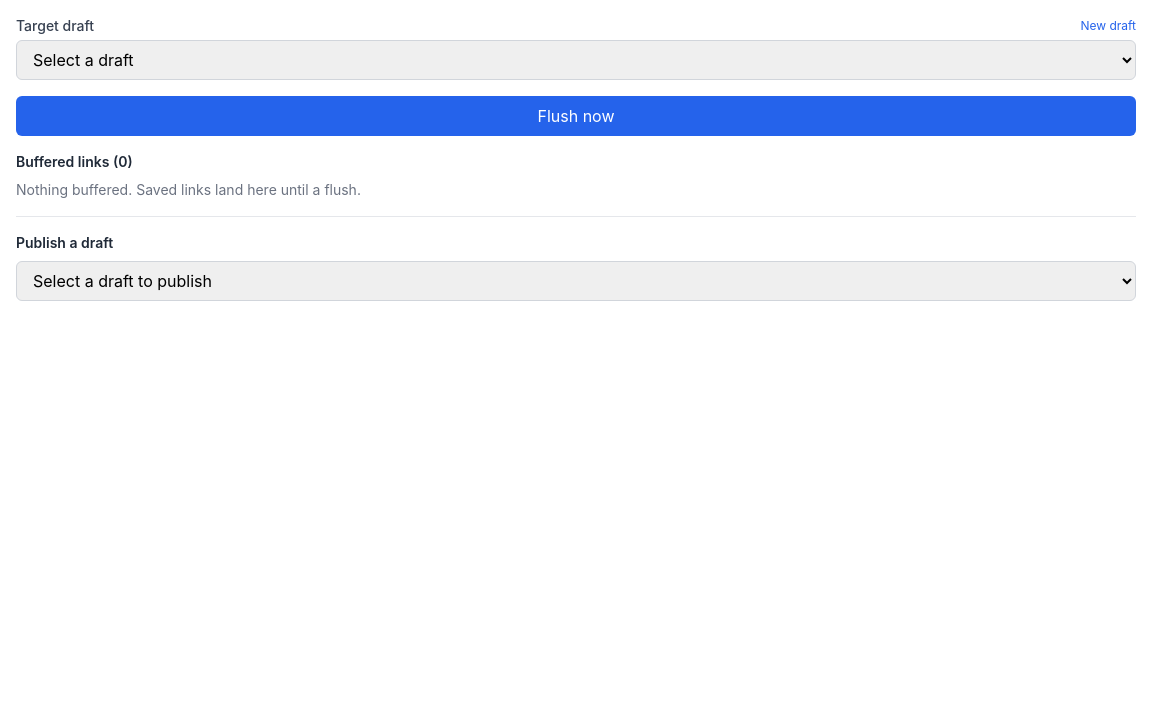
Queue publish gate › stays blocked when the sidecar could not answer
Select "Summer 2026 Tech Links — Curated Insights" in the 2nd dropdown at x=576, y=281, box [16,261,1136,301]
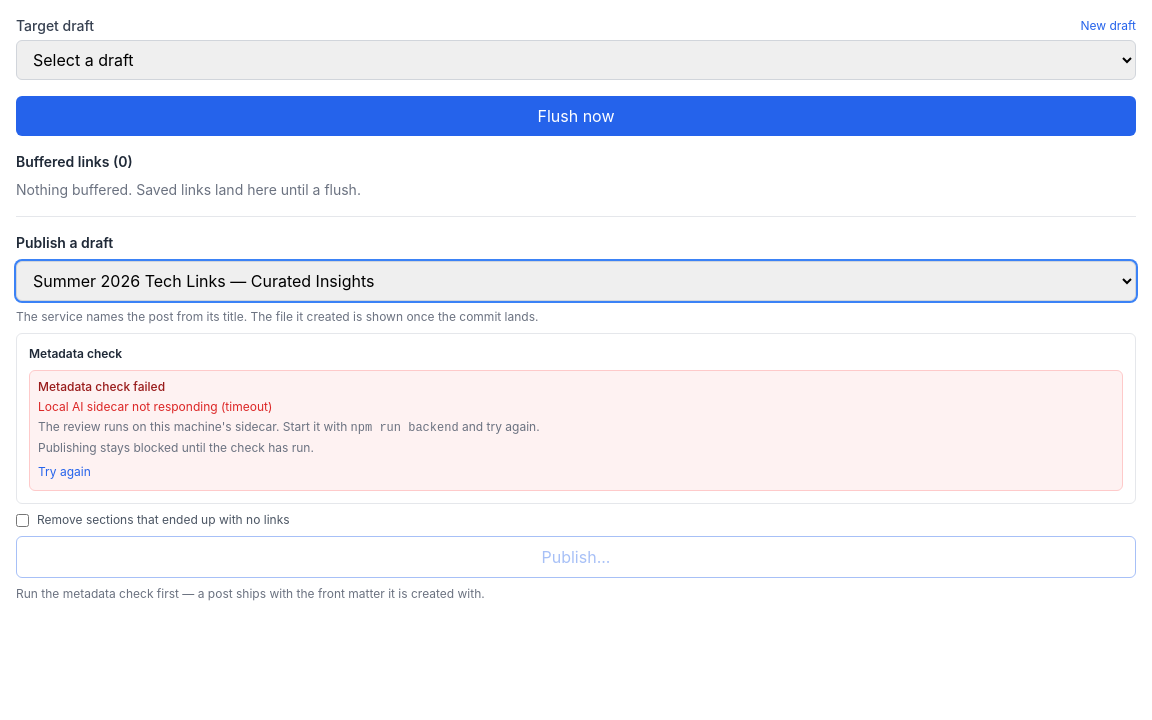
Now the text "Metadata check failed" is shown, box [38,379,165,394]
Now the text "Local AI sidecar not responding (timeout)" is shown, box [38,399,272,414]
Now the text "npm run backend" is shown, box [351,421,459,435]
